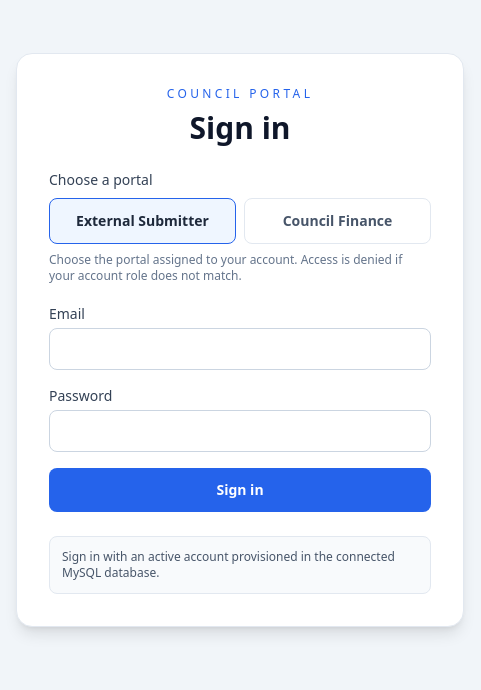
Test: authentication session flows › denies a submitter account when the council portal is selected
Click the button "Council Finance".
click(338, 221)  # box x1=244 y1=198 x2=431 y2=244
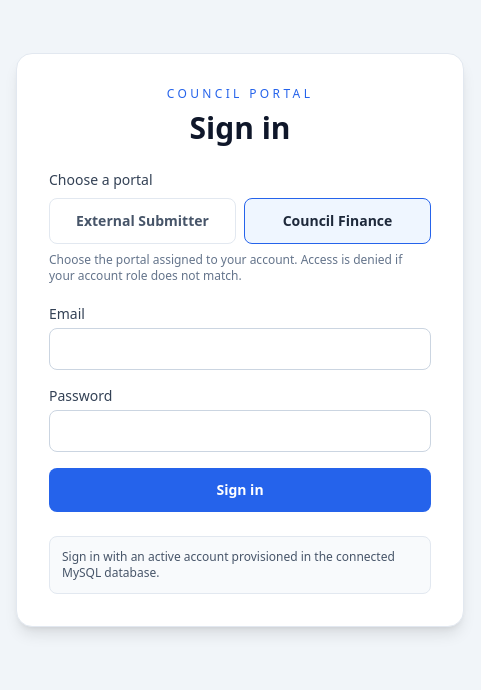
Type "submitter@example.org" into the field labelled "Email".
click(240, 349); type("submitter@example.org")  # box x1=49 y1=328 x2=431 y2=370
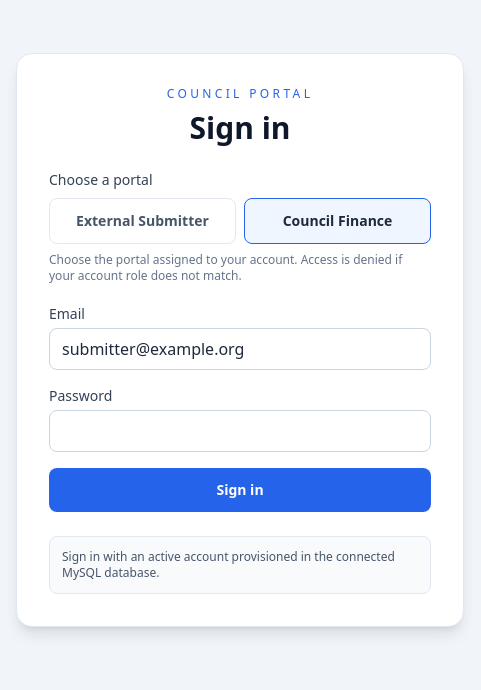
Type "valid-password" into the password field labelled "Password".
click(240, 431); type("valid-password")  # box x1=49 y1=410 x2=431 y2=452
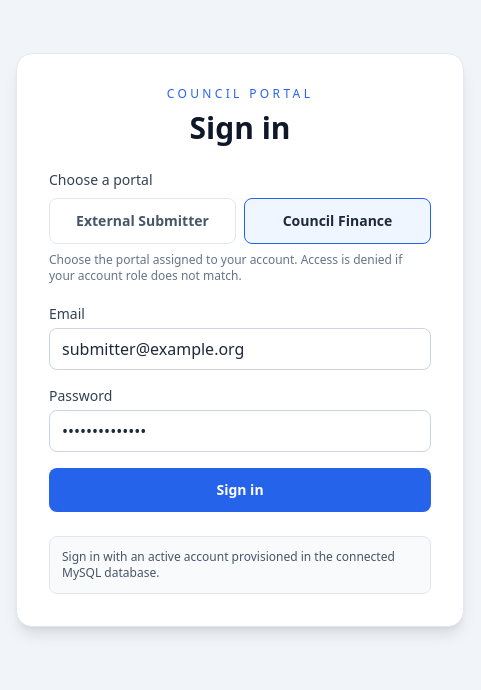
Click the button "Sign in".
click(240, 490)  # box x1=49 y1=468 x2=431 y2=512
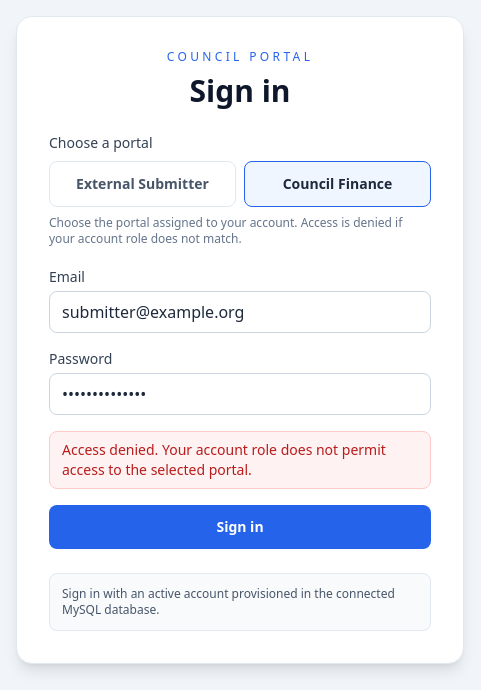
expect the message shows "Access denied": met, box x1=62 y1=440 x2=386 y2=479
